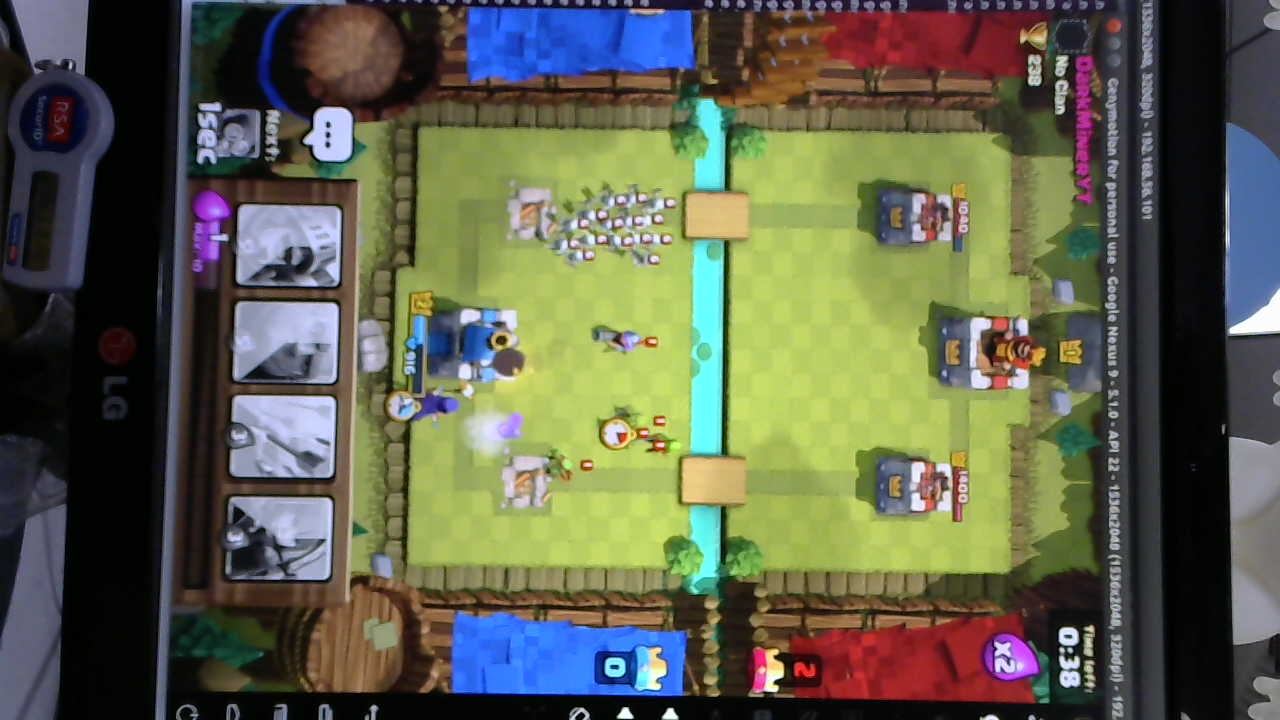goblinsE: (596, 406, 685, 459)
witch: (381, 383, 477, 422)
